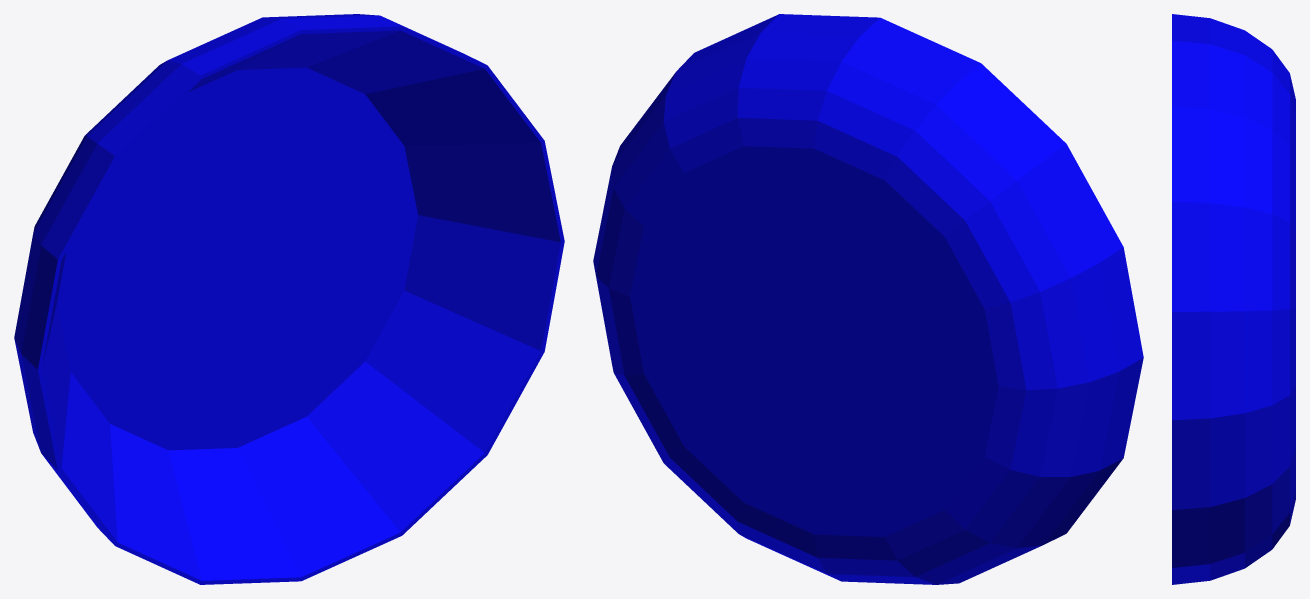
Rendered from nil_link_mesh.dae.
3 views of the same model, side by side, from view 1: azimuth 30°, elevation 25°; view 2: azimuth 150°, elevation 25°; view 3: azimuth 270°, elevation 25° (orthographic). The views are drawn at different scales.
Parts seen in each view (by area): view 1: nil_link; view 2: nil_link; view 3: nil_link.
Part boxes in pixels (left/top/right/bottom): nil_link: left=14, top=14, right=564, bottom=584; nil_link: left=593, top=14, right=1143, bottom=584; nil_link: left=1172, top=14, right=1295, bottom=584.
Bounding box in the file's own units: 0.272 × 0.272 × 0.059.
